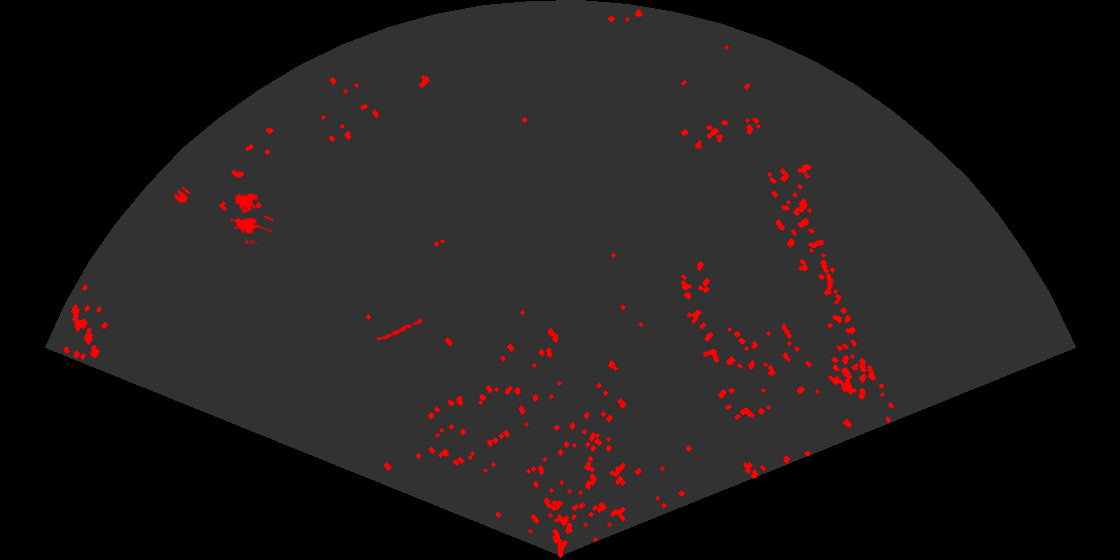ball: (172, 185, 192, 205)
cage: (228, 191, 273, 244)
chain: (375, 316, 427, 342)
